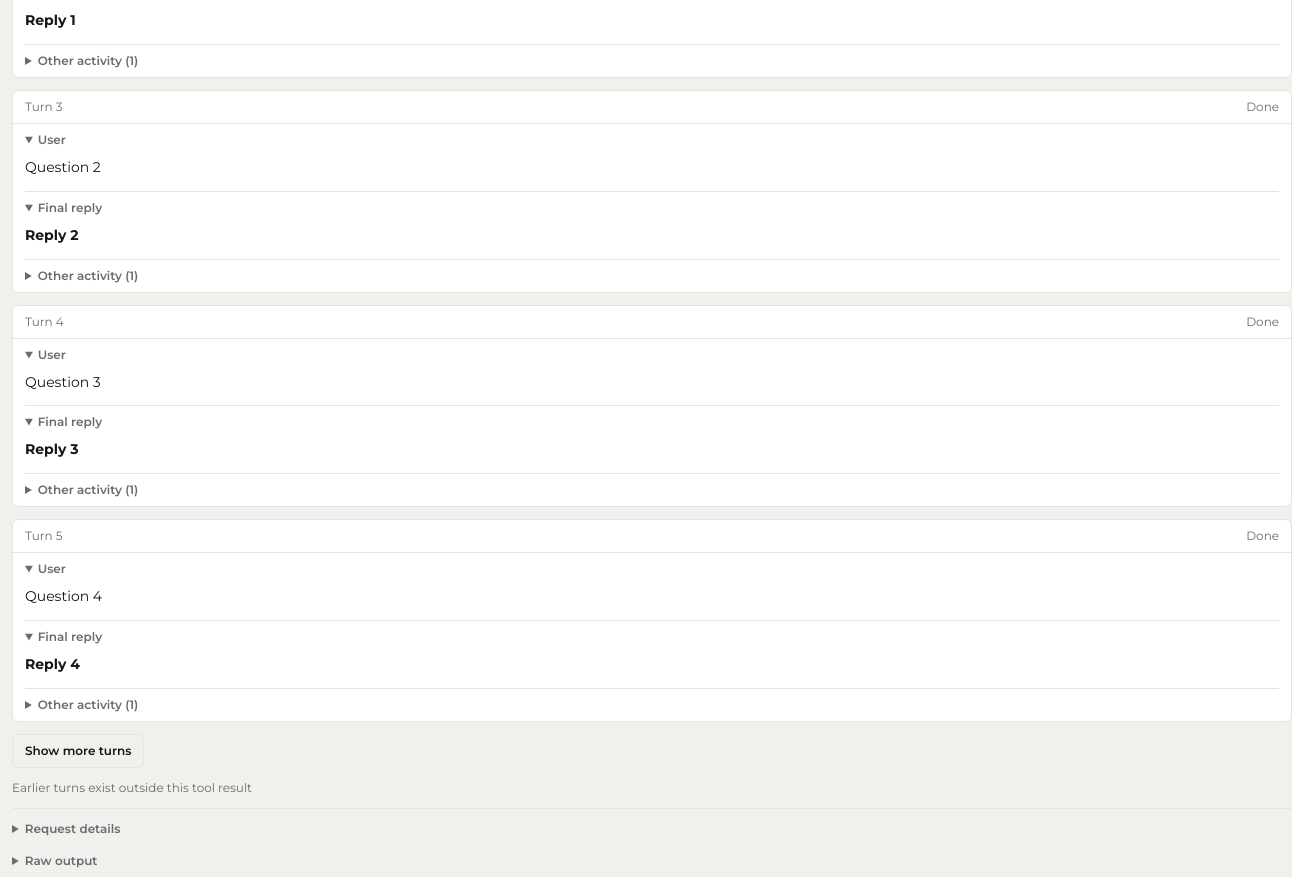
ToolOutputRenderer › renders conversation replies, defers activity and raw output, and reveals more turns
This screenshot has width=1292, height=877.
(page scrolled)
Expected: the text "Question 5" is not shown
Expected: the text "private raw result" is not shown
Click the button "Show more turns" at [78, 750], box [12, 734, 144, 768]
(page scrolled)
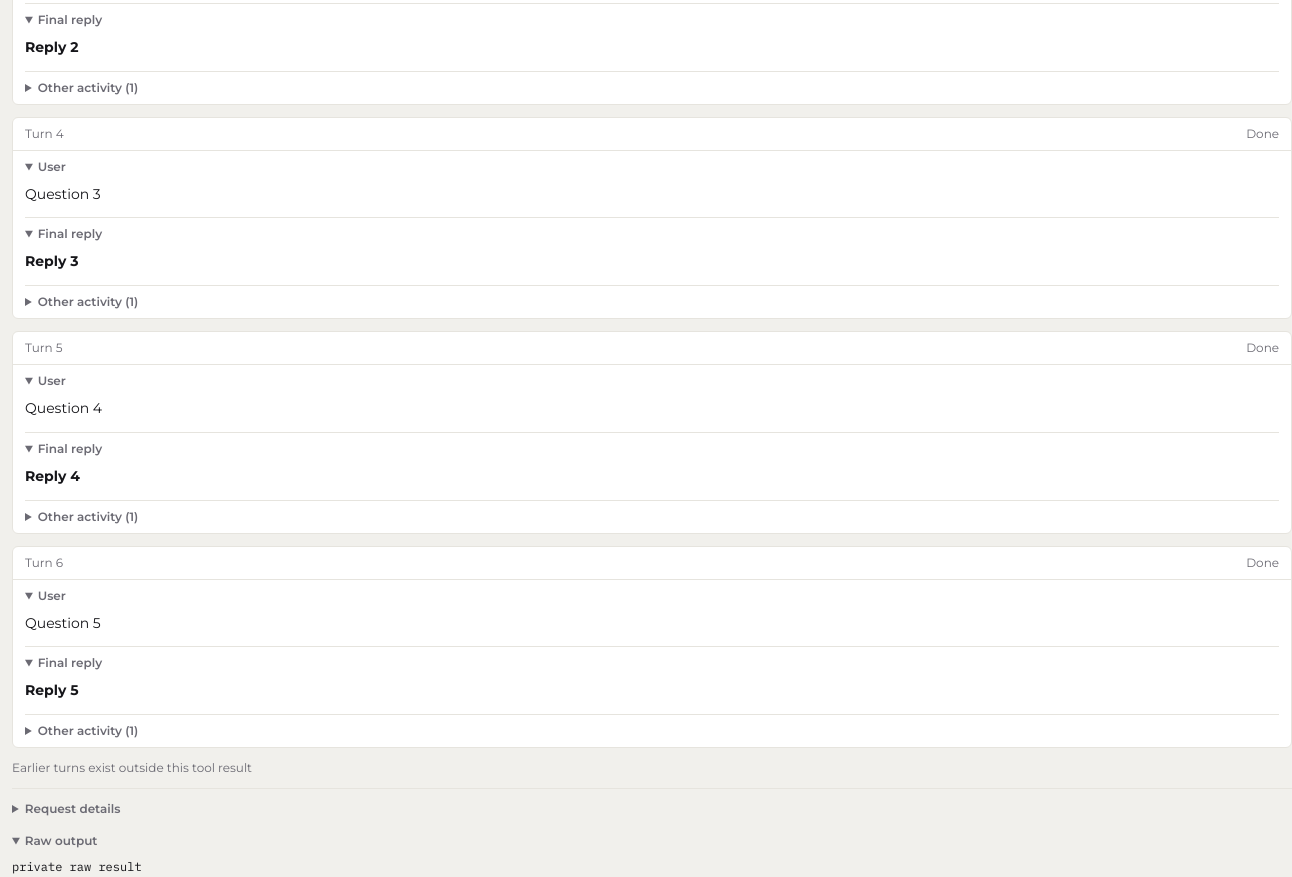
Expected: the text "Earlier turns exist outside this tool result" is shown, [12, 760, 252, 775]
Expected: the text "Question 5" is shown, [25, 614, 101, 632]
Expected: the text "private raw result" is shown, [12, 859, 142, 874]
